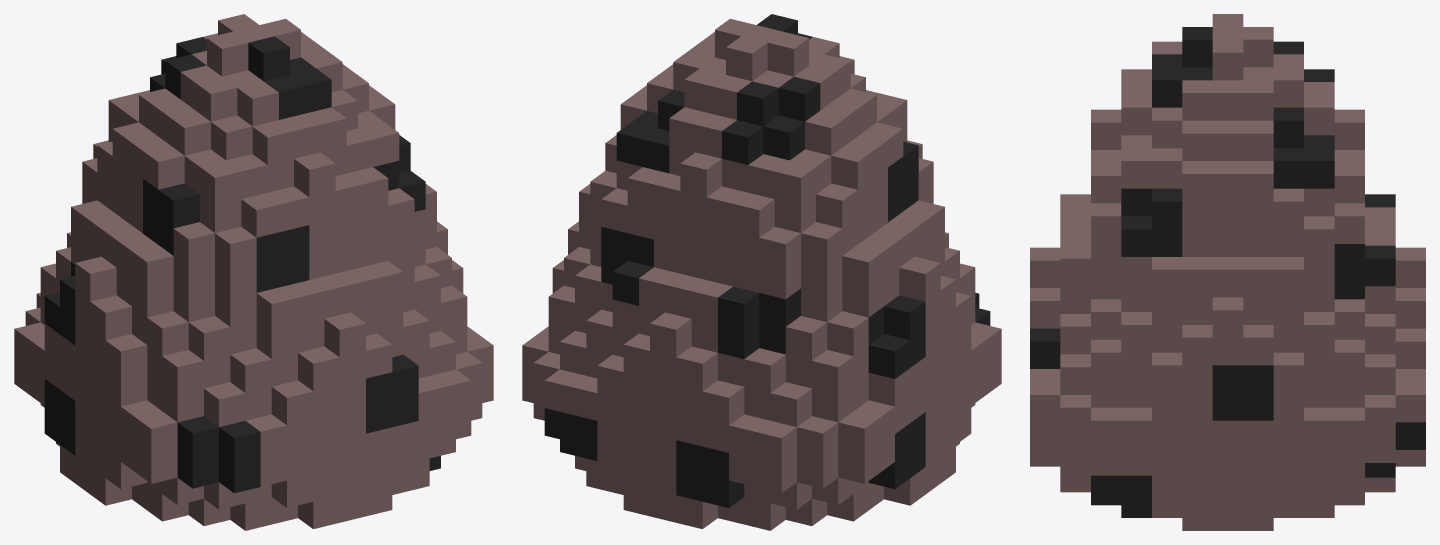
The model's file is HatcherEgg.obj.
3 views of the same model, side by side, from view 1: azimuth 30°, elevation 25°; view 2: azimuth 150°, elevation 25°; view 3: azimuth 270°, elevation 25° (orthographic).
Visible parts, largest first — view 1: HatcherEgg; view 2: HatcherEgg; view 3: HatcherEgg.
Part boxes in pixels (x1=…): HatcherEgg: x1=14, y1=14, x2=493, y2=530; HatcherEgg: x1=522, y1=14, x2=1001, y2=530; HatcherEgg: x1=1030, y1=14, x2=1425, y2=530.
Size of the model in its own units: 13 by 15 by 13.
